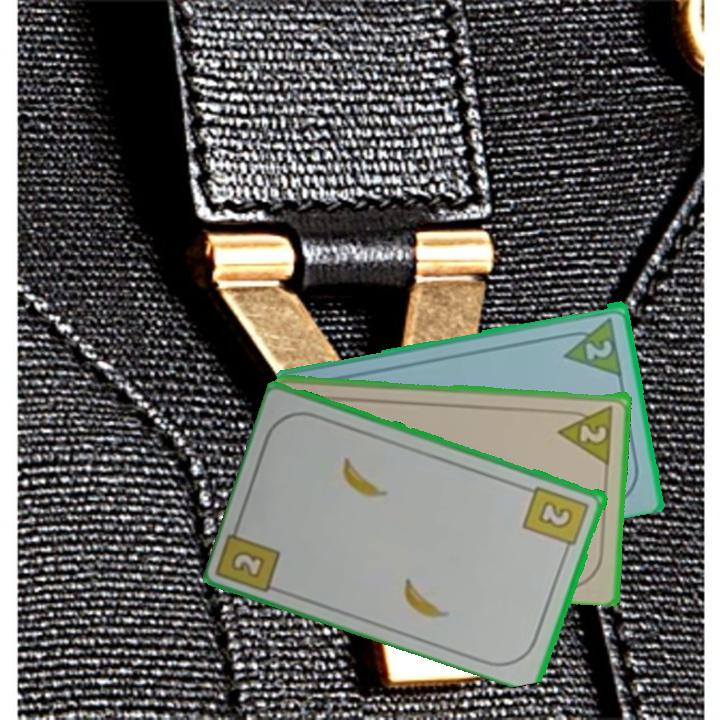2b: (520, 482, 592, 556), (227, 546, 269, 581)
2p: (558, 313, 625, 377), (556, 401, 616, 464)
